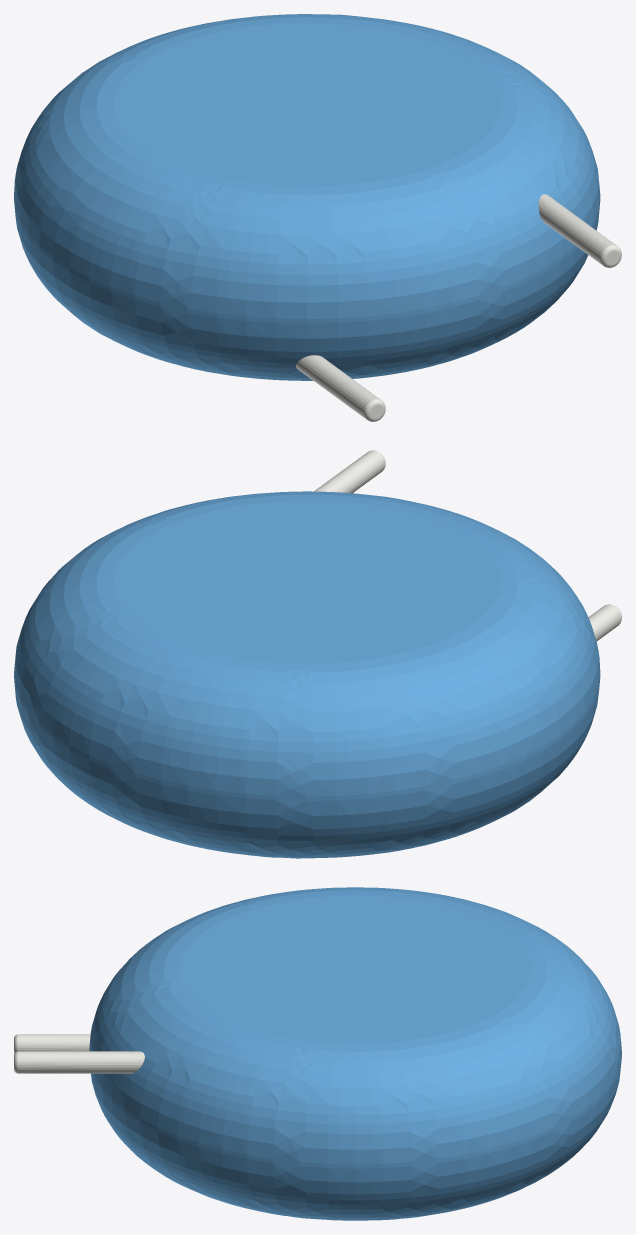
The model's file is RV_Disc_D21.5mm_W7.5mm_P10mm.glb.
3 views of the same model, one above another, from view 1: azimuth 30°, elevation 25°; view 2: azimuth 150°, elevation 25°; view 3: azimuth 270°, elevation 25° (orthographic). The views are drawn at different scales.
Parts seen in each view (by area): view 1: Shape_IndexedFaceSet.001, Shape_IndexedFaceSet.003, Shape_IndexedFaceSet.002, Shape_IndexedFaceSet, Shape_IndexedFaceSet.004, Shape_IndexedFaceSet.006; view 2: Shape_IndexedFaceSet.001, Shape_IndexedFaceSet.003, Shape_IndexedFaceSet.002, Shape_IndexedFaceSet, Shape_IndexedFaceSet.004, Shape_IndexedFaceSet.006; view 3: Shape_IndexedFaceSet.001, Shape_IndexedFaceSet.003, Shape_IndexedFaceSet.002, Shape_IndexedFaceSet.004, Shape_IndexedFaceSet, Shape_IndexedFaceSet.006.
Part boxes in pixels (x1,y1,x2,y2): Shape_IndexedFaceSet.001: [14, 14, 600, 318]; Shape_IndexedFaceSet.003: [114, 23, 500, 186]; Shape_IndexedFaceSet.002: [14, 201, 600, 380]; Shape_IndexedFaceSet: [14, 197, 600, 323]; Shape_IndexedFaceSet.004: [538, 194, 615, 264]; Shape_IndexedFaceSet.006: [296, 355, 380, 418]; Shape_IndexedFaceSet.001: [14, 491, 600, 796]; Shape_IndexedFaceSet.003: [114, 500, 500, 663]; Shape_IndexedFaceSet.002: [14, 678, 599, 858]; Shape_IndexedFaceSet: [14, 674, 600, 800]; Shape_IndexedFaceSet.004: [314, 450, 384, 493]; Shape_IndexedFaceSet.006: [588, 605, 621, 641]; Shape_IndexedFaceSet.001: [89, 887, 621, 1164]; Shape_IndexedFaceSet.003: [180, 895, 531, 1043]; Shape_IndexedFaceSet.002: [91, 1060, 621, 1220]; Shape_IndexedFaceSet.004: [18, 1051, 144, 1073]; Shape_IndexedFaceSet: [93, 1053, 621, 1168]; Shape_IndexedFaceSet.006: [18, 1034, 90, 1051].
Bounding box in the file's own units: 8.47 × 2.95 × 9.66.
